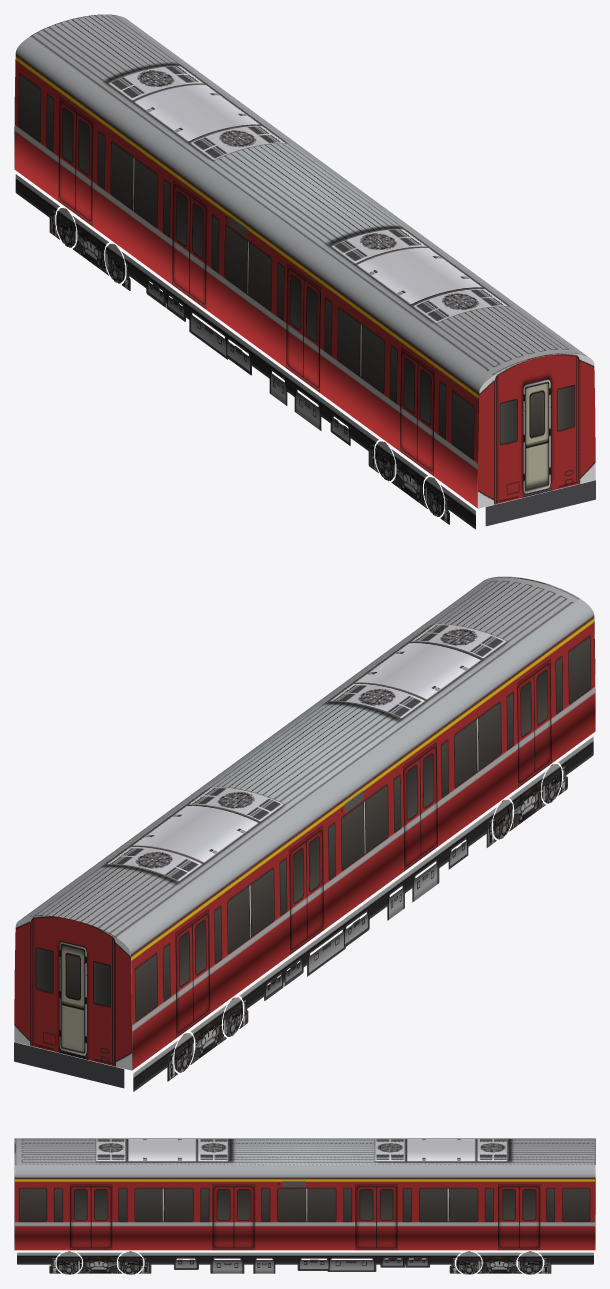
The model's file is car3.glb.
The picture shows the model from 3 angles, top to bottom: view 1: azimuth 30°, elevation 25°; view 2: azimuth 150°, elevation 25°; view 3: azimuth 270°, elevation 25°; orthographic projection. The views are drawn at different scales.
Parts seen in each view (by area): view 1: osakyu1000-car3; view 2: osakyu1000-car3; view 3: osakyu1000-car3.
Part boxes in pixels (bbox=[...]): osakyu1000-car3: bbox=[14, 14, 595, 529]; osakyu1000-car3: bbox=[14, 576, 595, 1091]; osakyu1000-car3: bbox=[14, 1138, 595, 1274].
Size of the model in its own units: 2.86 by 4.06 by 19.53.
Materials: 7 (6 with a texture image).
